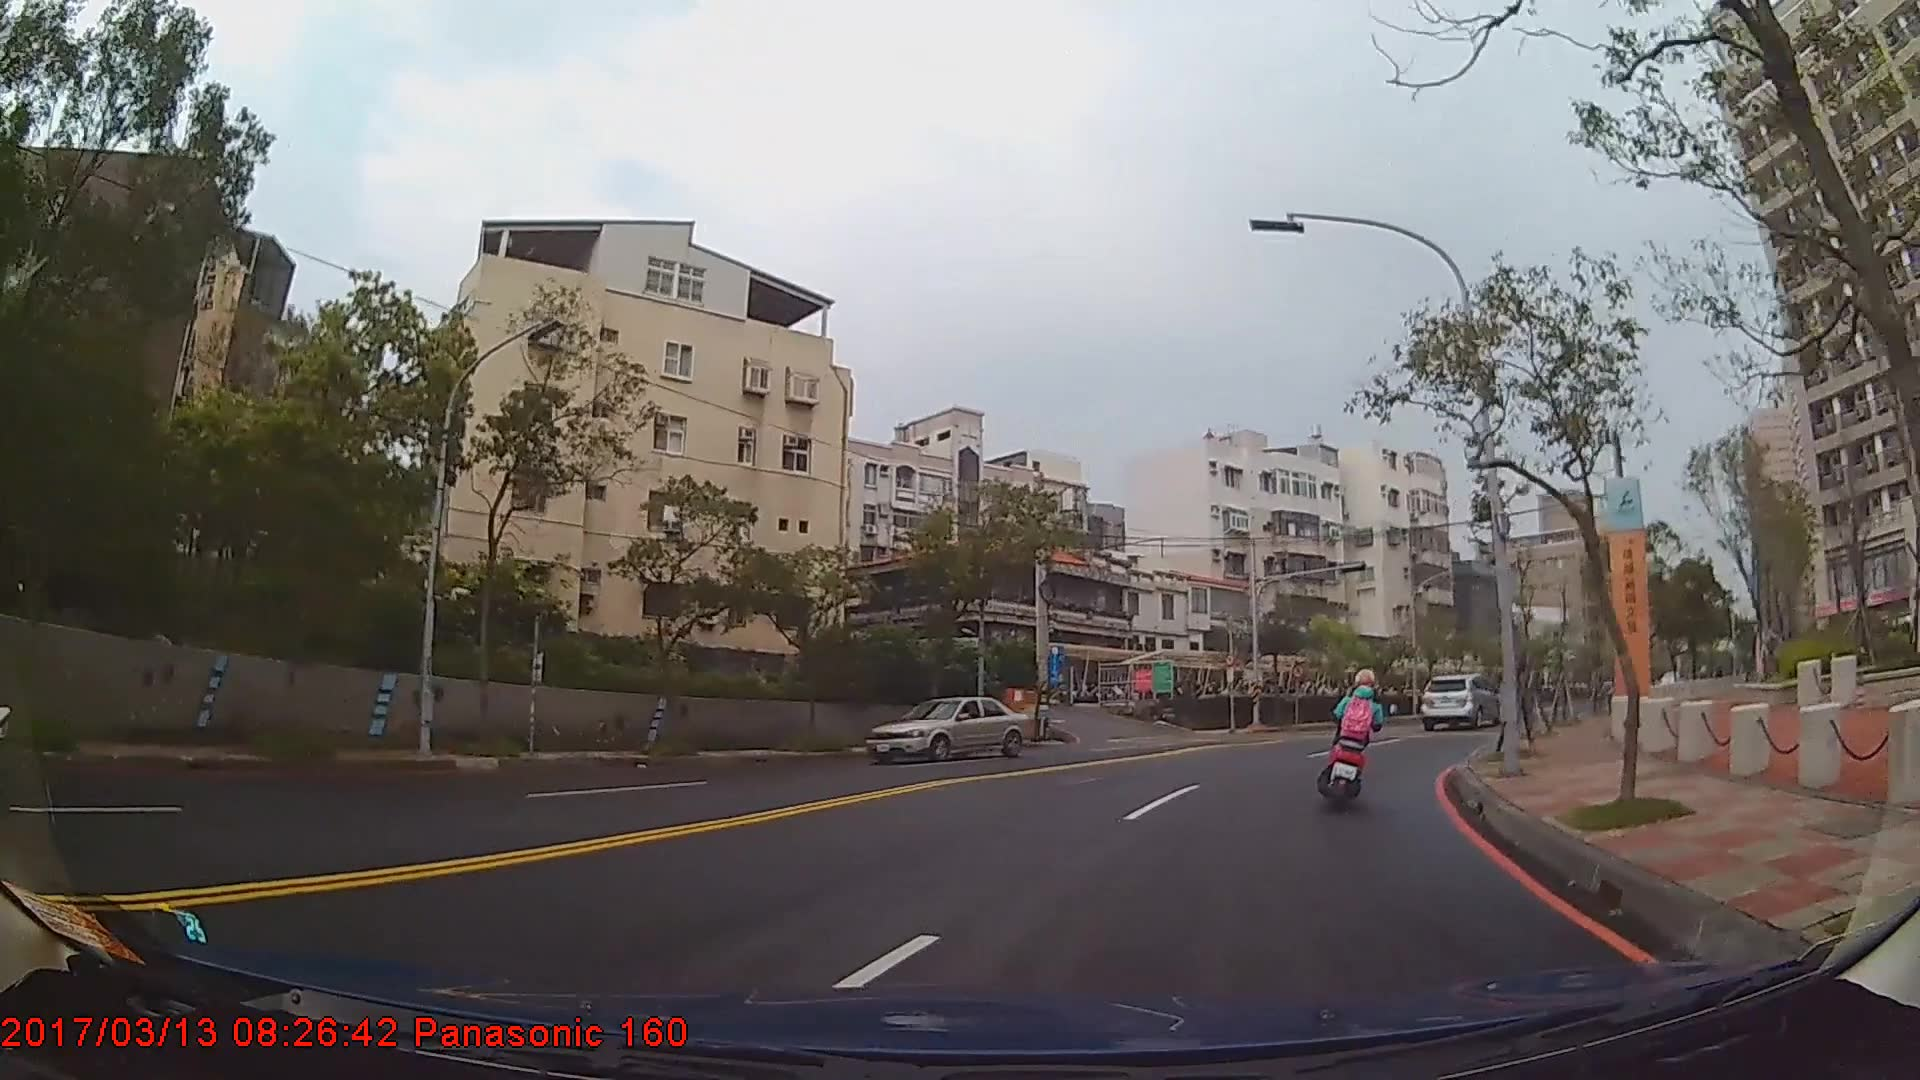rider: (1325, 669, 1386, 801)
vehicle: (863, 697, 1031, 764), (1419, 673, 1499, 730)
